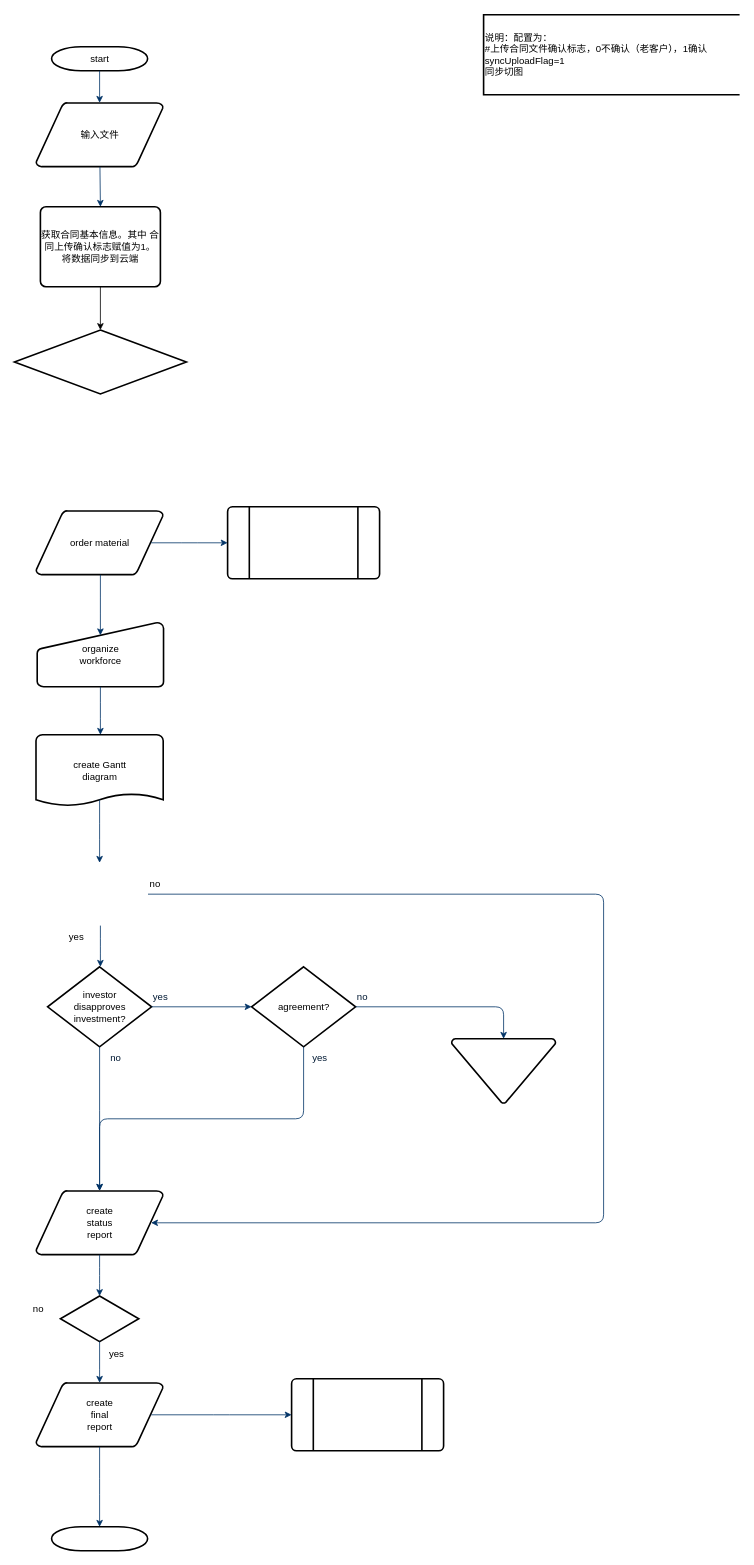
The diagram is 754 pixels wide and 1565 high, and some of its shapes have lost their labels. Each missing label, with the box of its shape:
end: (50, 1526, 148, 1551)
issue bill of works: (290, 1378, 444, 1451)
material balance: (226, 506, 380, 579)
project complete?: (59, 1295, 139, 1342)
terminate contract: (450, 1038, 556, 1104)
云端同步合同元数据， 判断extSignFile是否为空？: (13, 329, 187, 394)
